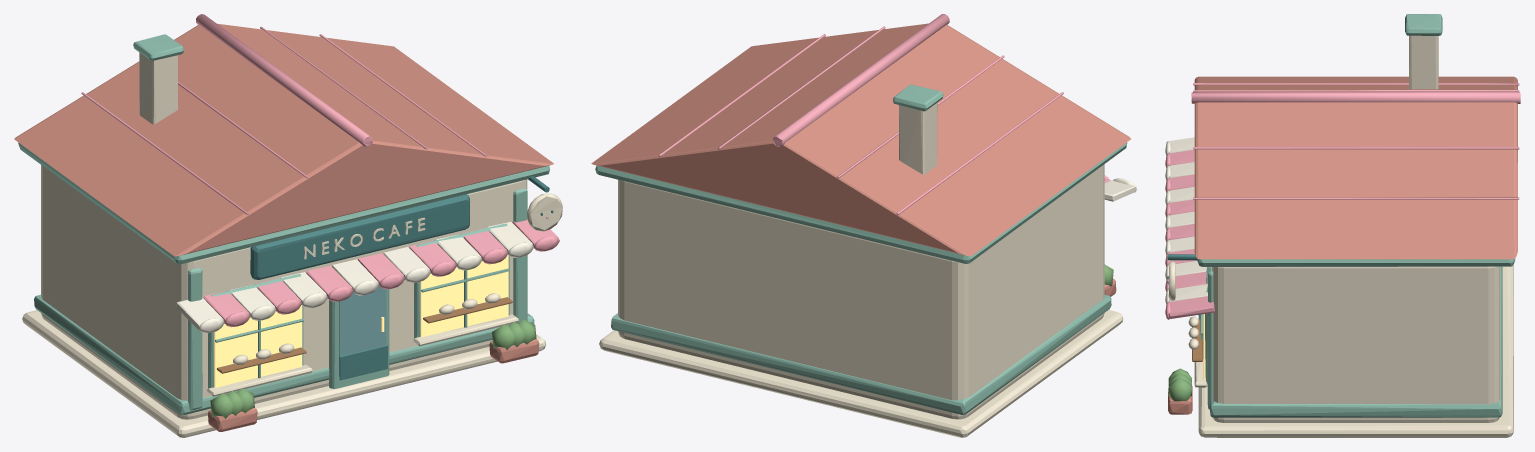
File: cafe-lod1.glb
The picture shows the model from 3 angles, left to right: view 1: azimuth 30°, elevation 25°; view 2: azimuth 150°, elevation 25°; view 3: azimuth 270°, elevation 25°; orthographic projection.
Visible parts, largest first — view 1: cafe-lod1; view 2: cafe-lod1; view 3: cafe-lod1.
Part boxes in pixels (<box>): cafe-lod1: <box>14,14,562,437</box>; cafe-lod1: <box>591,14,1136,437</box>; cafe-lod1: <box>1165,14,1520,437</box>.
Size of the model in its own units: 9.58 by 7.01 by 7.89.
